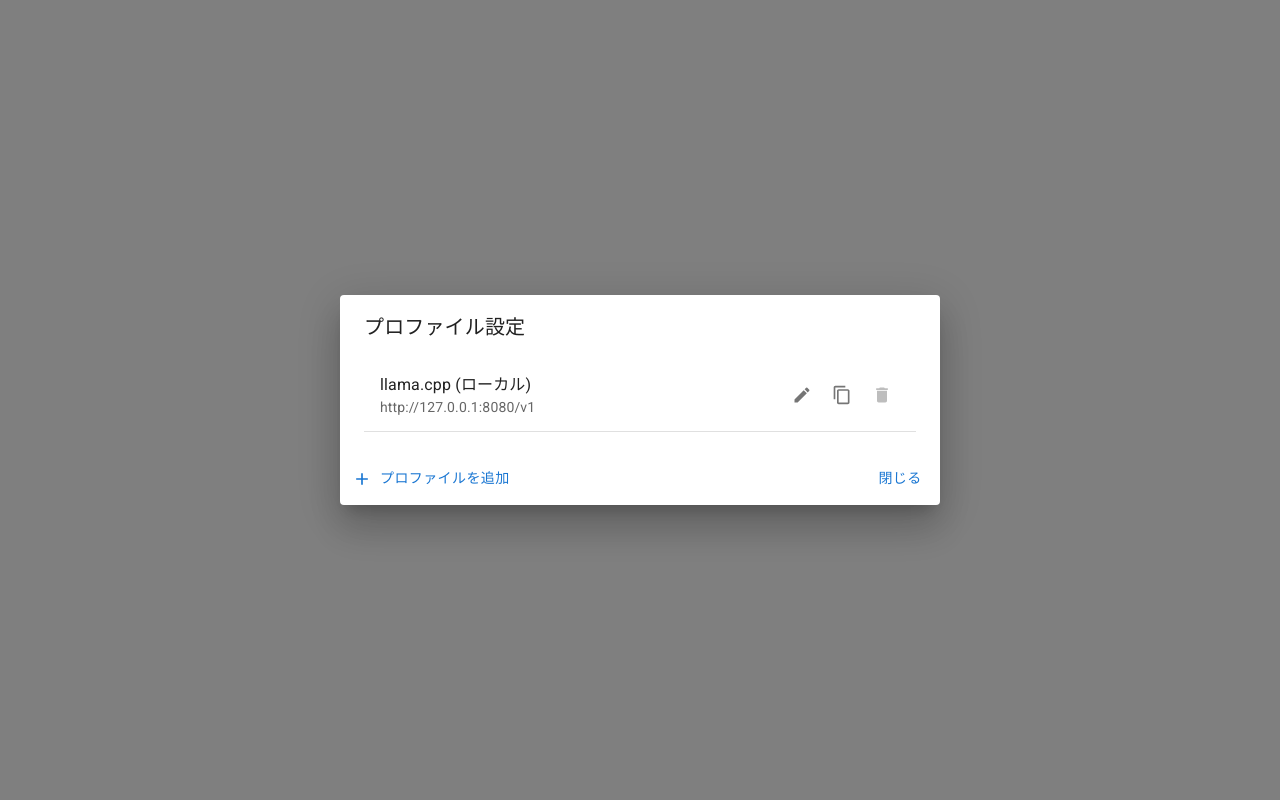
Test: ProfileSettingsDialog › shows known sampling parameters as fields and the rest as extra JSON when editing
Click the button named "llama.cpp (ローカル) を編集": (802, 395) [784,377,820,413]
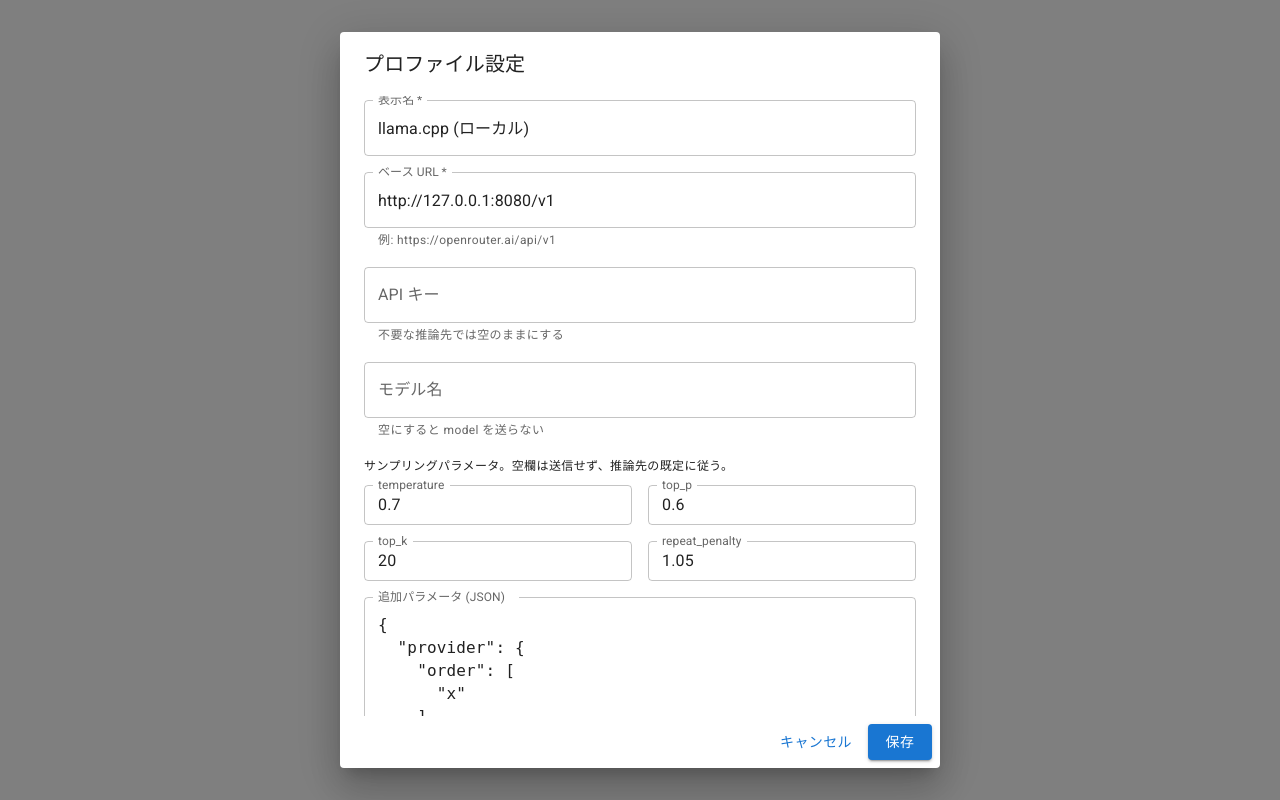
Expected: the field labelled "temperature" holds "0.7", [364,485,632,525]
Expected: the field labelled "top_p" holds "0.6", [648,485,916,525]
Expected: the field labelled "top_k" holds "20", [364,541,632,581]
